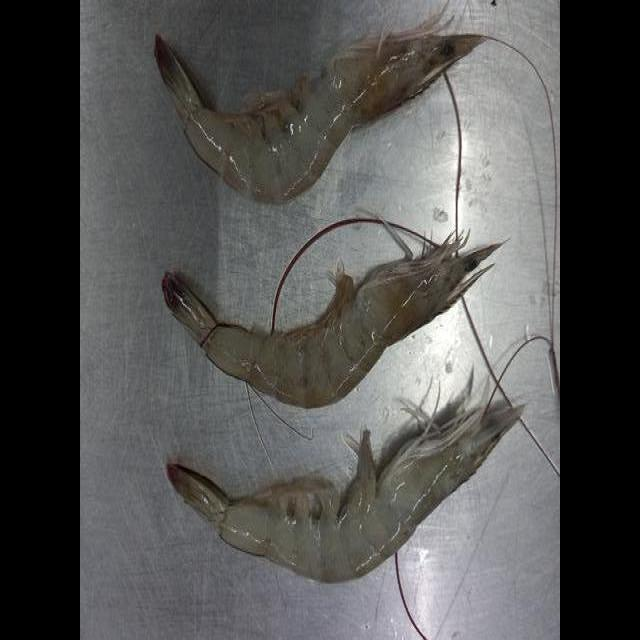shrimp: (168, 407, 522, 582), (156, 18, 485, 203), (162, 237, 500, 407)
